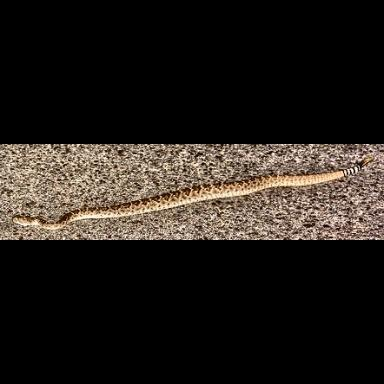snake: (10, 159, 374, 234)
